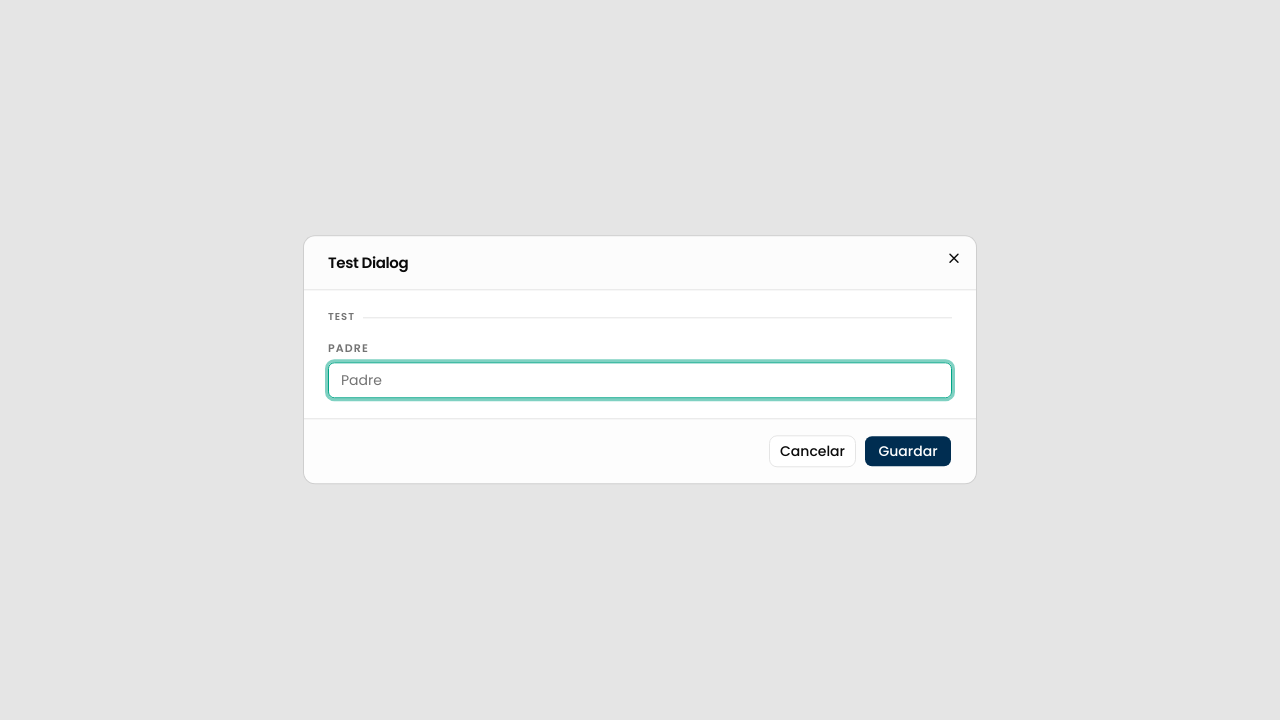
Test: AutocompleteField › shows dropdown options and clicking one selects it
In the field with placeholder "Padre": {"x": 640, "y": 381} [328,363,952,399], type "ab"
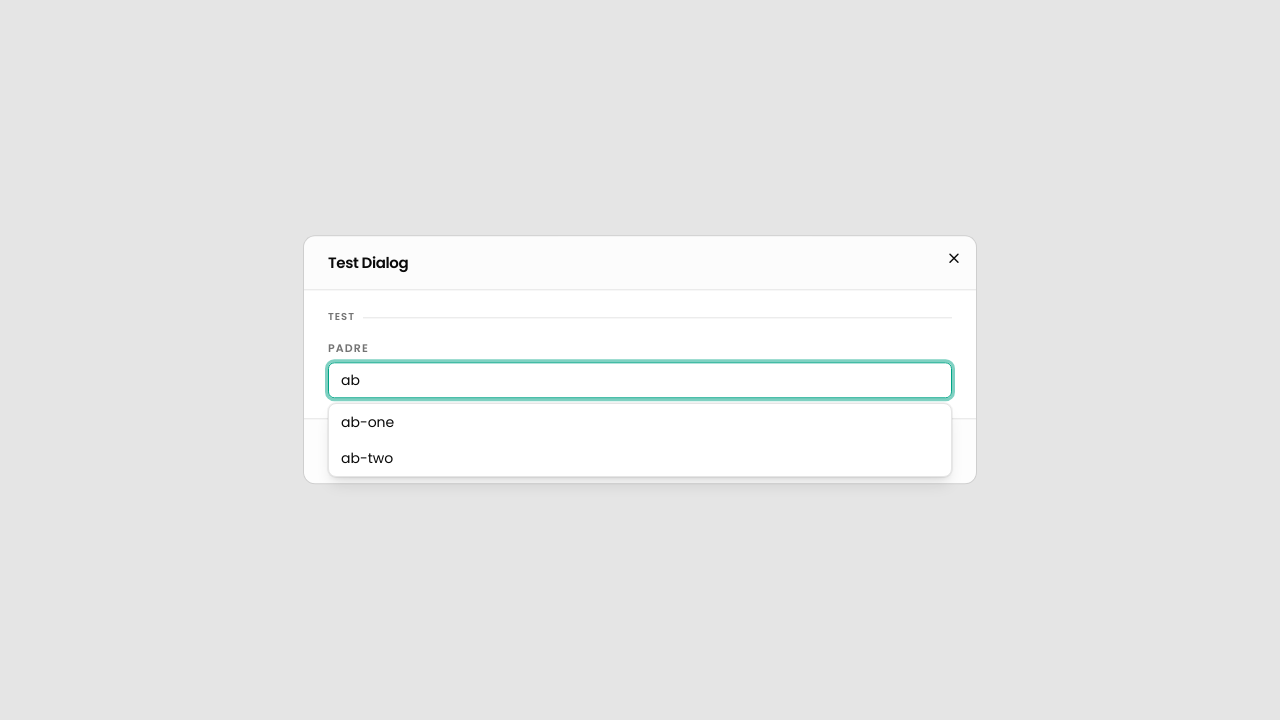
Expected: the list item "ab-one" is shown
Click the list item "ab-one": {"x": 368, "y": 422} [341,412,394,432]
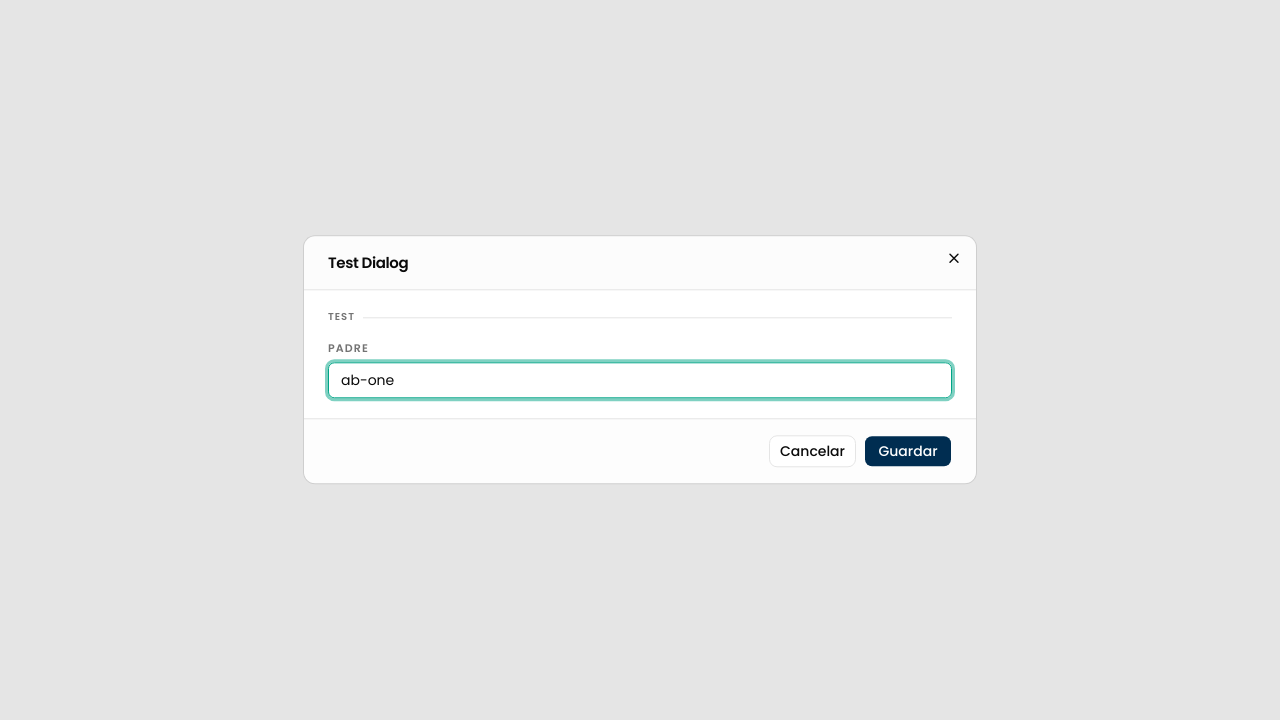
Expected: the list item "ab-two" is gone
